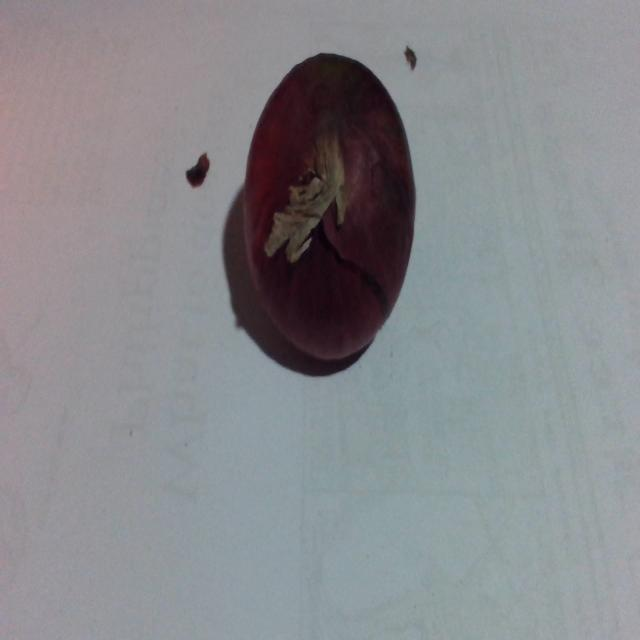onion: (238, 37, 418, 383)
